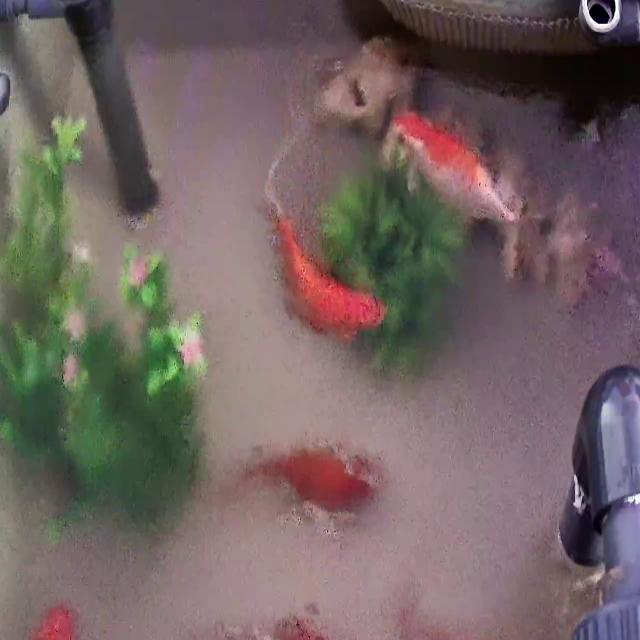fish: (394, 112, 517, 231), (270, 212, 372, 344), (235, 445, 374, 523), (232, 615, 336, 640)
